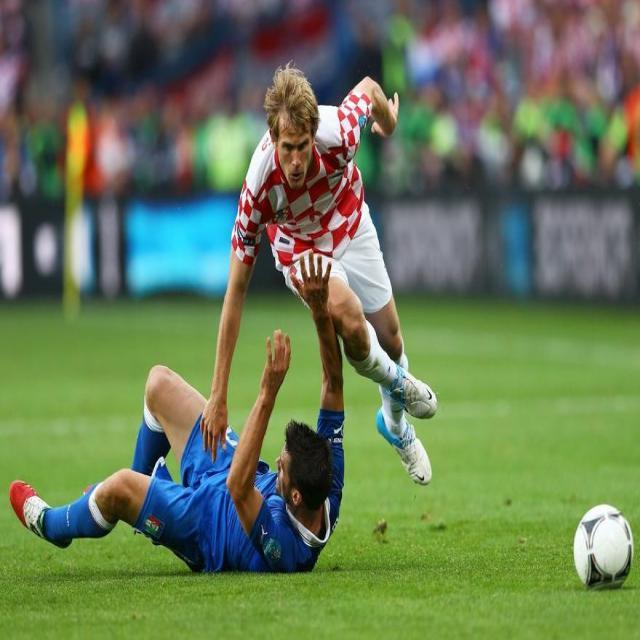fall: (21, 350, 340, 574)
